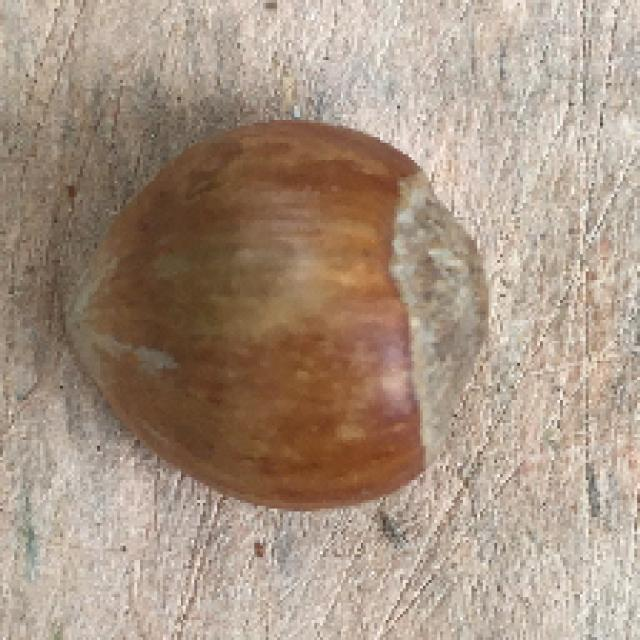qualityHazelnut: (58, 115, 490, 515)
